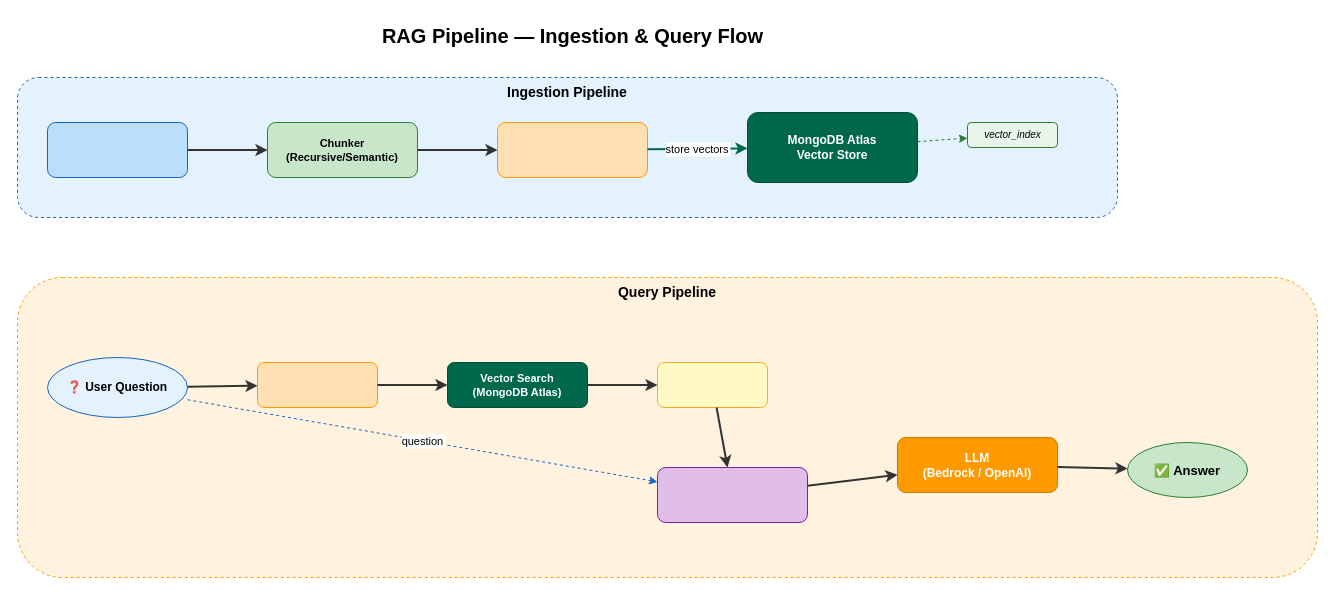
This 1335x595 diagram has some shape labels left out. The shapes that lost their labels are listed below. From the top down, each one's centre as x and y in pixels, then its label:
At (117,150): "📄 Documents (PDF, Text, HTML)".
At (572,150): "Embeddings (Titan / OpenAI)".
At (317,385): "Embed Query".
At (712,385): "Top K Chunks".
At (732,494): "Prompt Template Context + Question".
